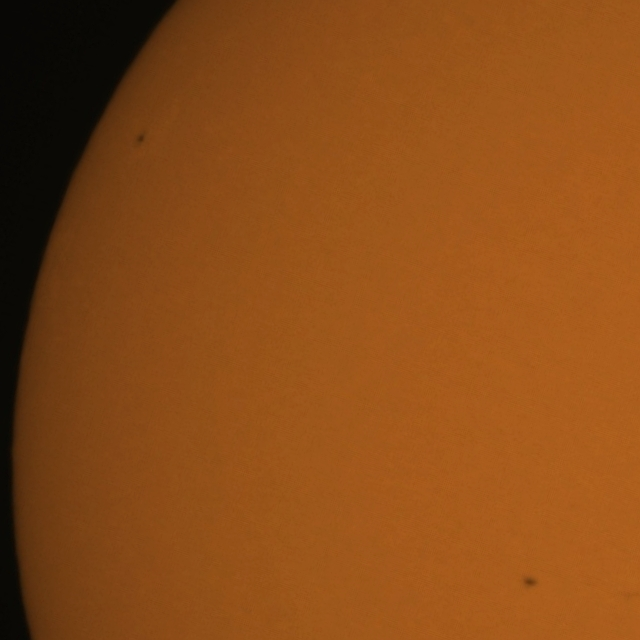sunspot: (522, 575, 540, 590), (134, 132, 146, 146)
